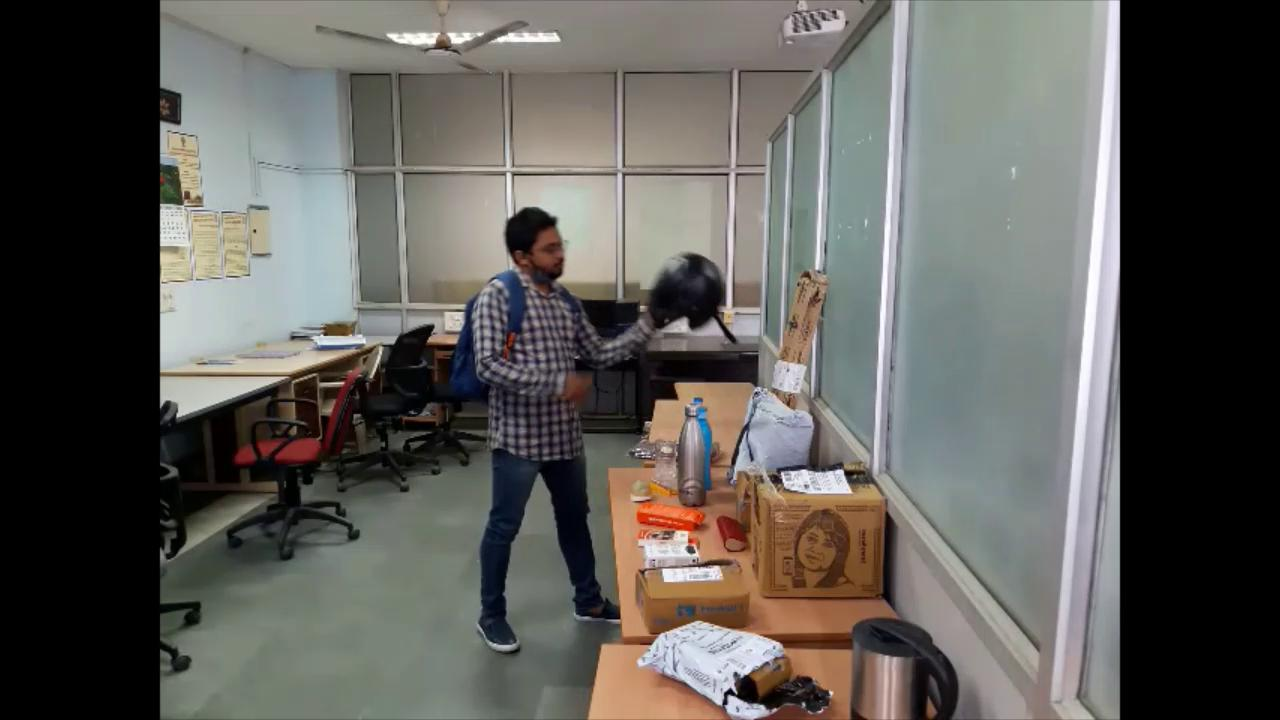Normal: (432, 200, 734, 720)
